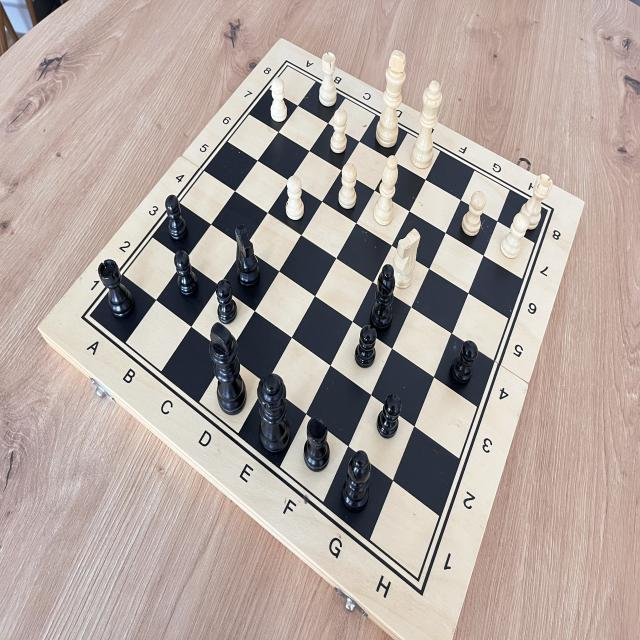black-bishop: (338, 446, 375, 517), (368, 262, 398, 333)
black-king: (204, 317, 253, 420)
black-knight: (228, 220, 263, 291)
black-pawn: (445, 338, 480, 390), (168, 246, 200, 300), (212, 275, 242, 328), (350, 323, 382, 371), (375, 390, 404, 442), (161, 193, 190, 242)
black-queen: (250, 367, 294, 462)
black-rook: (95, 257, 138, 321), (299, 413, 333, 475)
white-bishop: (372, 153, 401, 228)
white-king: (373, 47, 409, 152)
white-knight: (391, 225, 422, 291)
white-pawn: (498, 210, 532, 262), (458, 188, 488, 240), (282, 172, 308, 225), (336, 161, 360, 216), (266, 73, 290, 126), (326, 106, 349, 156)
white-queen: (409, 78, 445, 174)
white-rook: (515, 171, 555, 234), (316, 48, 341, 110)
